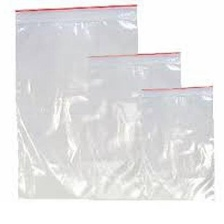plastic_bag: (13, 1, 142, 202), (80, 47, 183, 205), (135, 81, 220, 203)
